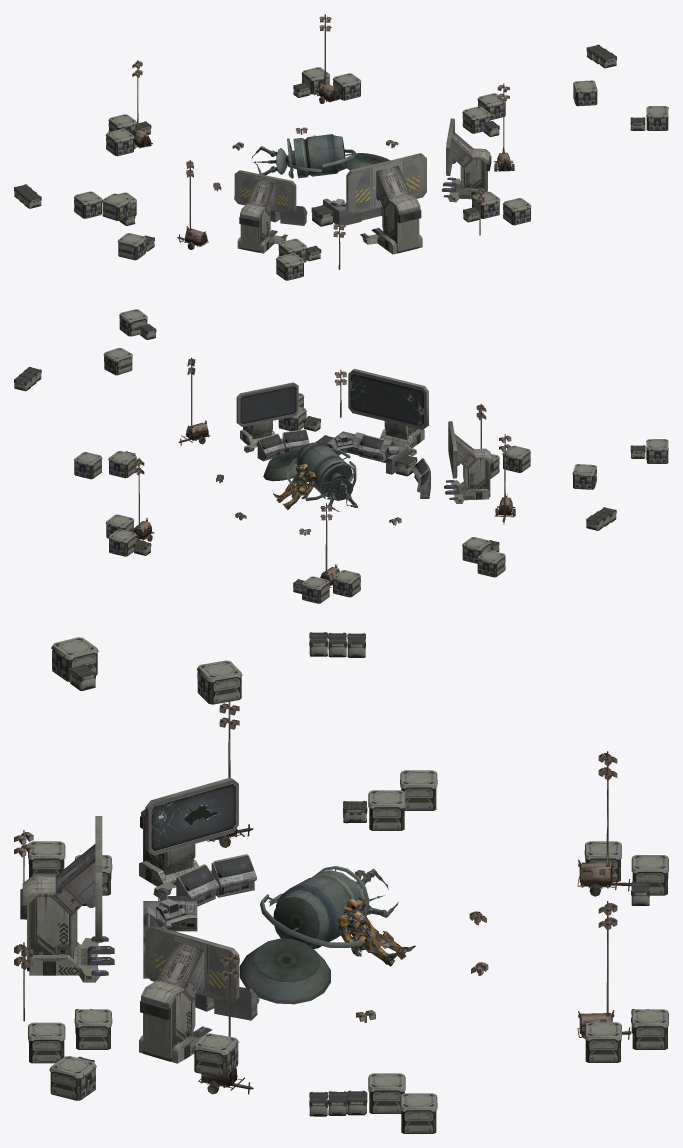
Rendered from Building_JzDaoju_2048.glb.
3 views of the same model, one above another, from view 1: azimuth 30°, elevation 25°; view 2: azimuth 150°, elevation 25°; view 3: azimuth 270°, elevation 25° (orthographic). The views are drawn at different scales.
Visible parts, largest first — view 1: saibt_jz_daoju; view 2: saibt_jz_daoju; view 3: saibt_jz_daoju.
Boxes of the visible parts, bbox=[...] form: saibt_jz_daoju: bbox=[14, 14, 668, 280]; saibt_jz_daoju: bbox=[14, 309, 668, 603]; saibt_jz_daoju: bbox=[14, 632, 668, 1133].
Bounding box in the file's own units: 93.81 × 12.93 × 55.25.
1 material, 1 textured.
